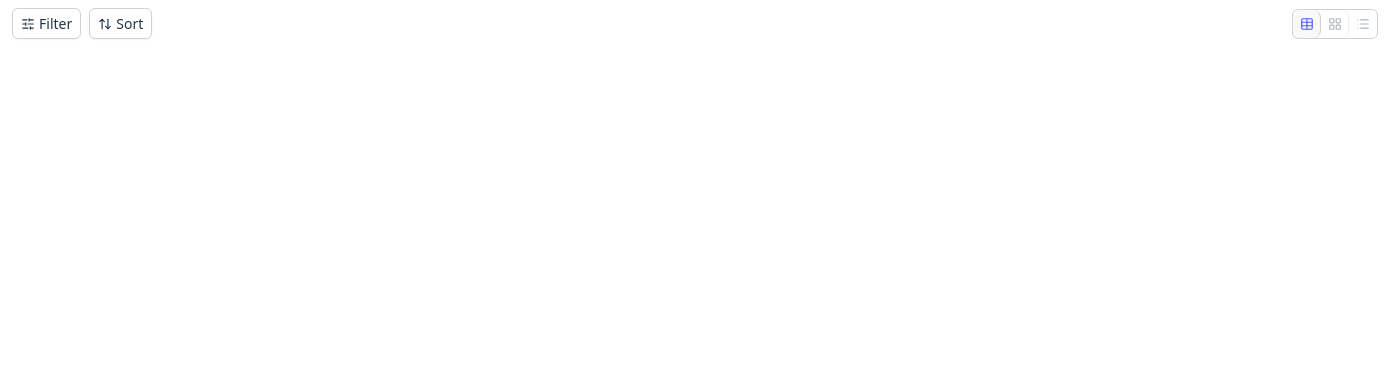
SearchControls Component › hides sort panel when filter panel is opened and vice versa
# --- Act ---
Click the button with aria-label "toggle sort".
click(121, 24)  # box [89,8,152,39]
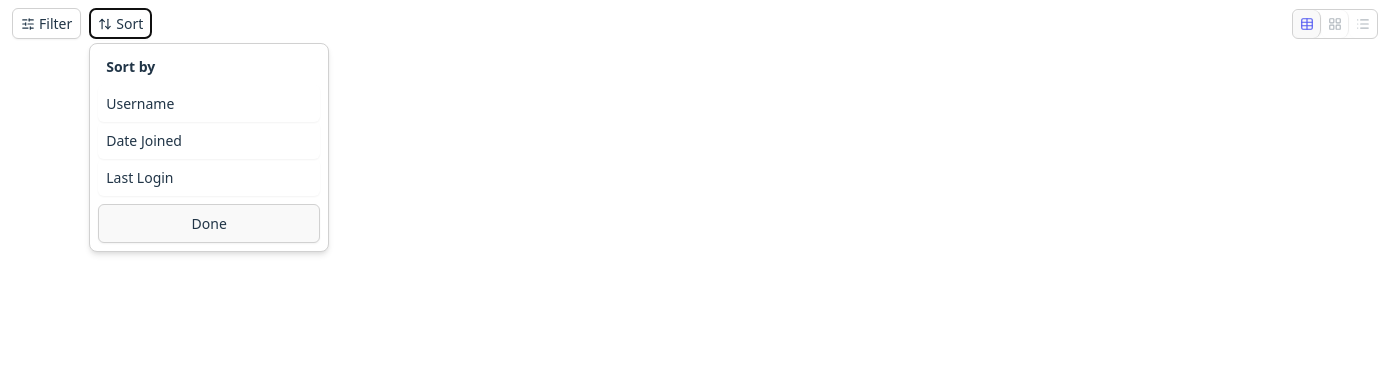
Click the button with aria-label "toggle filters".
click(47, 24)  # box [12,8,81,39]
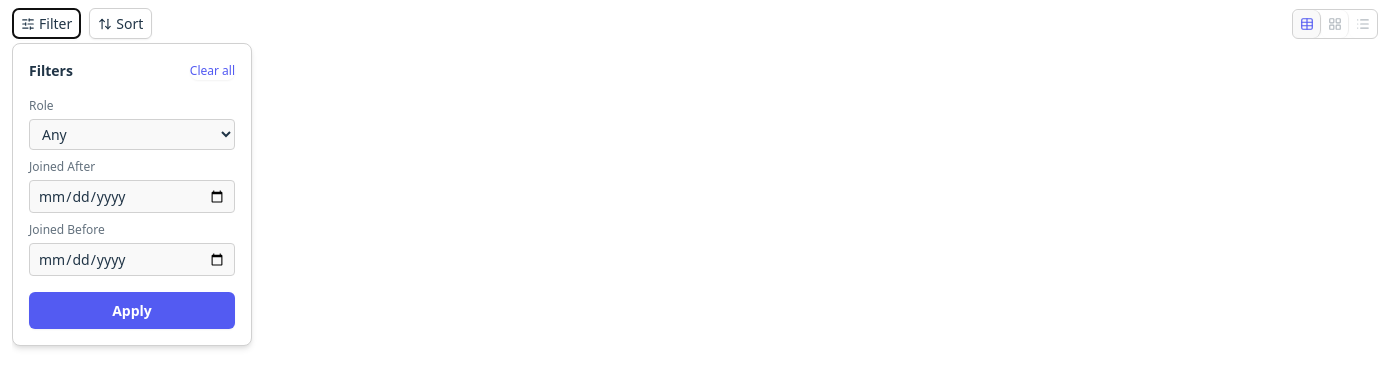
Expected: the text "Sort by" is gone
Expected: the text "Filters" is shown, [29,60,73,81]
